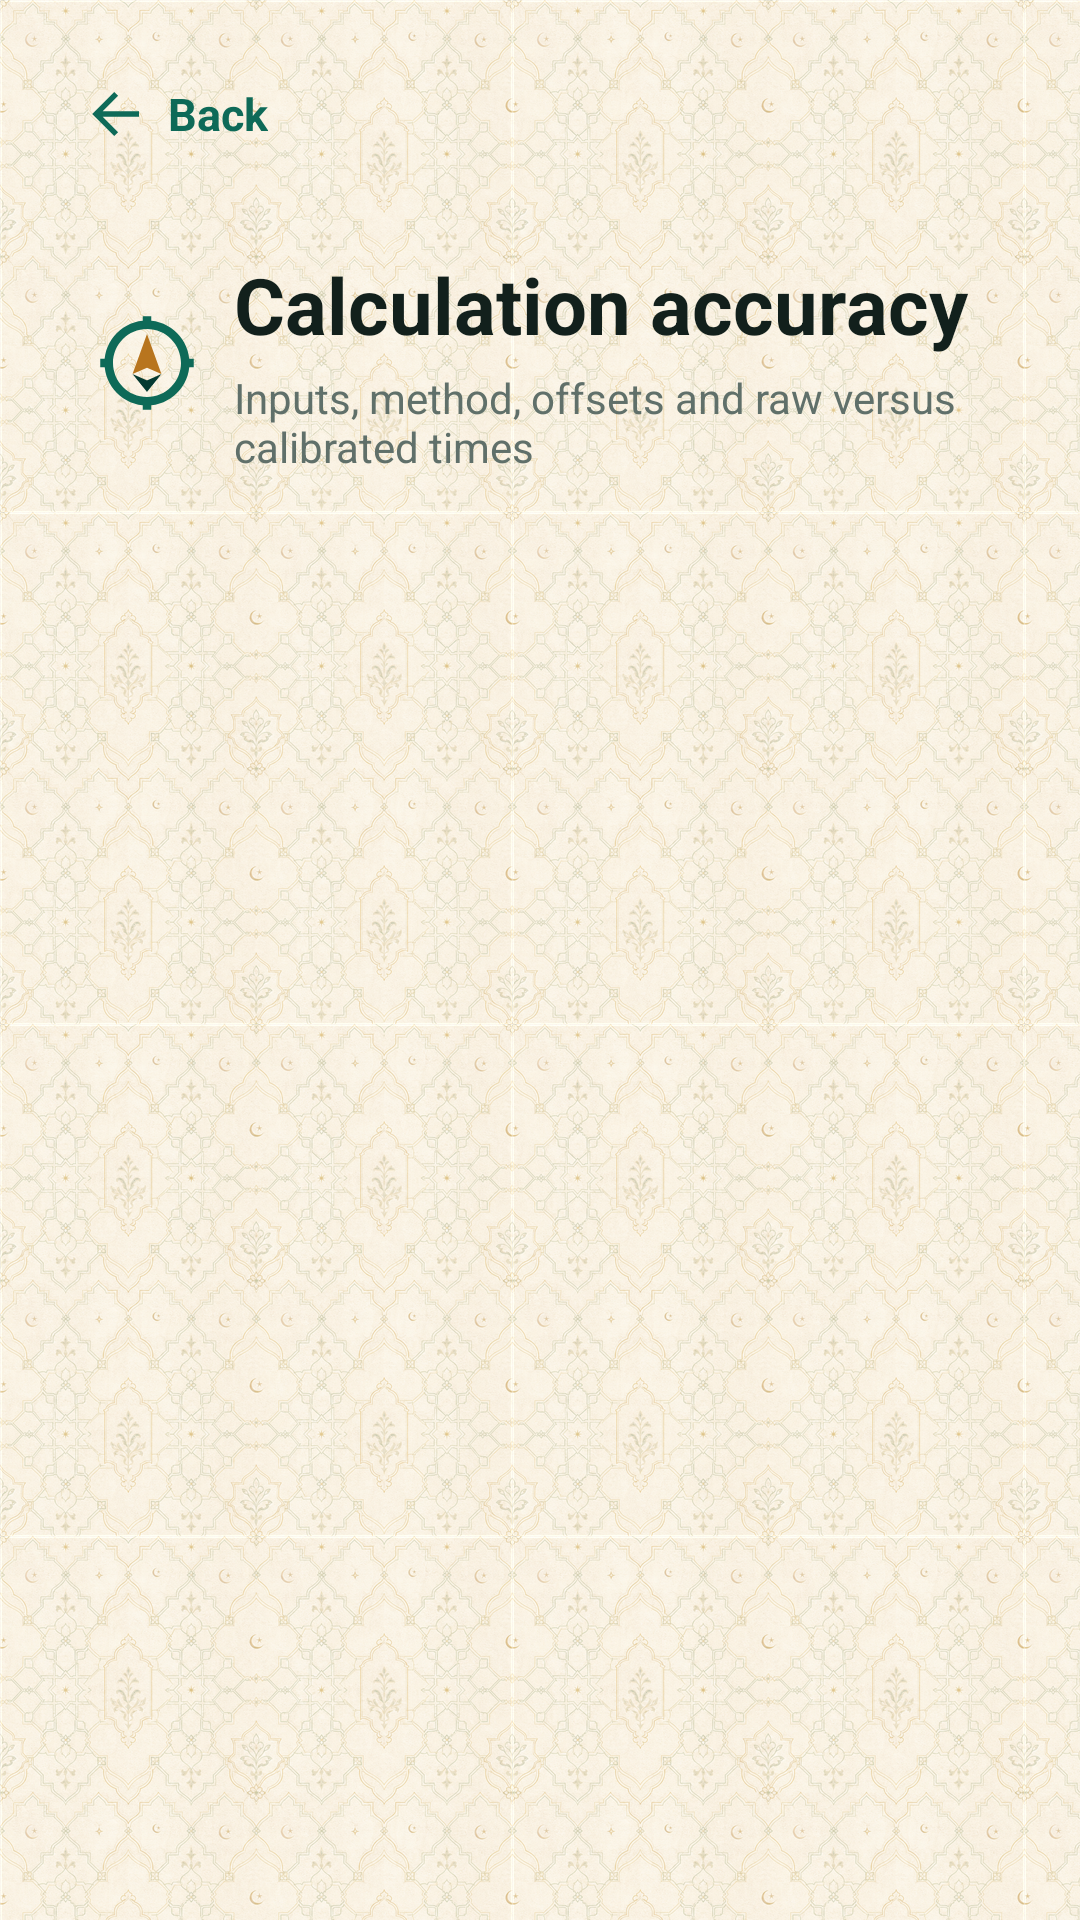

Locate icon controls on the screen. Image size 1080 x 1920, boxes as (x1, y1, x2, y2).
qibla: (96, 312, 198, 414)
